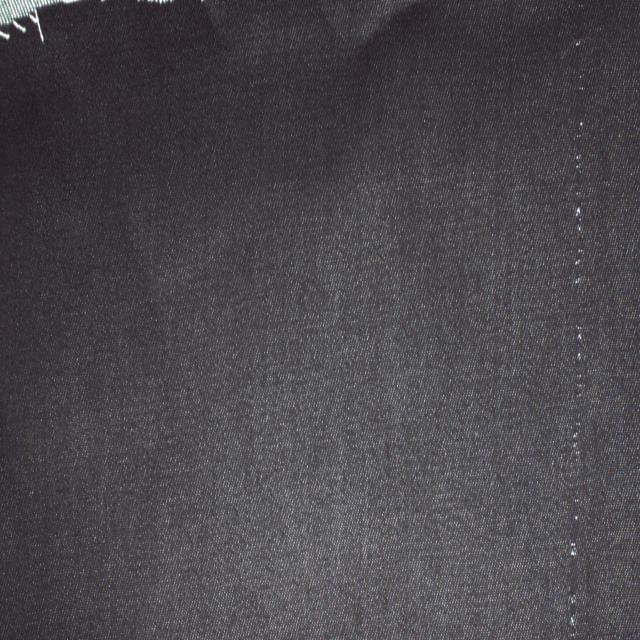defect: (563, 24, 589, 640)
